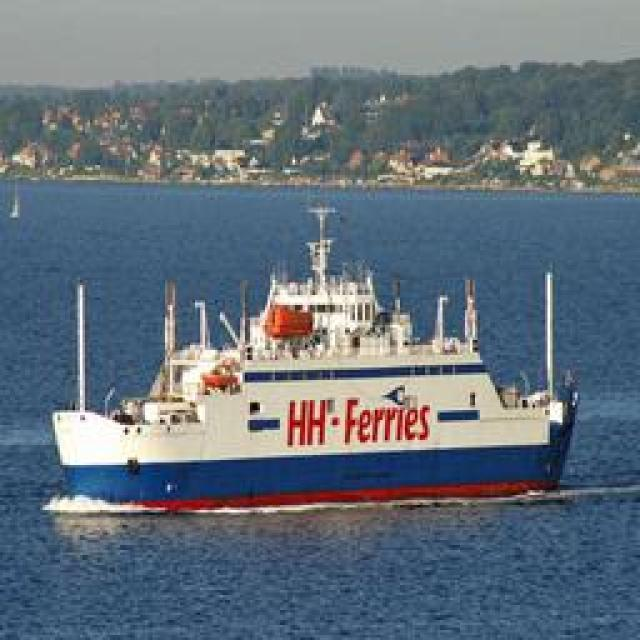CIV_Ship: (51, 217, 586, 505)
